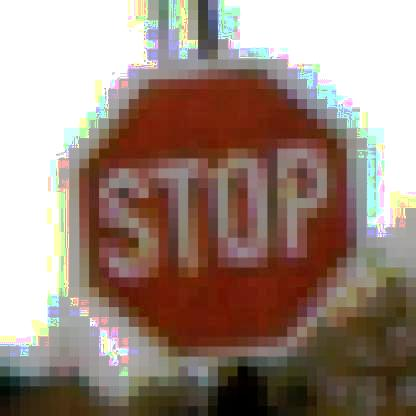Stop Sign: (60, 50, 372, 362)
